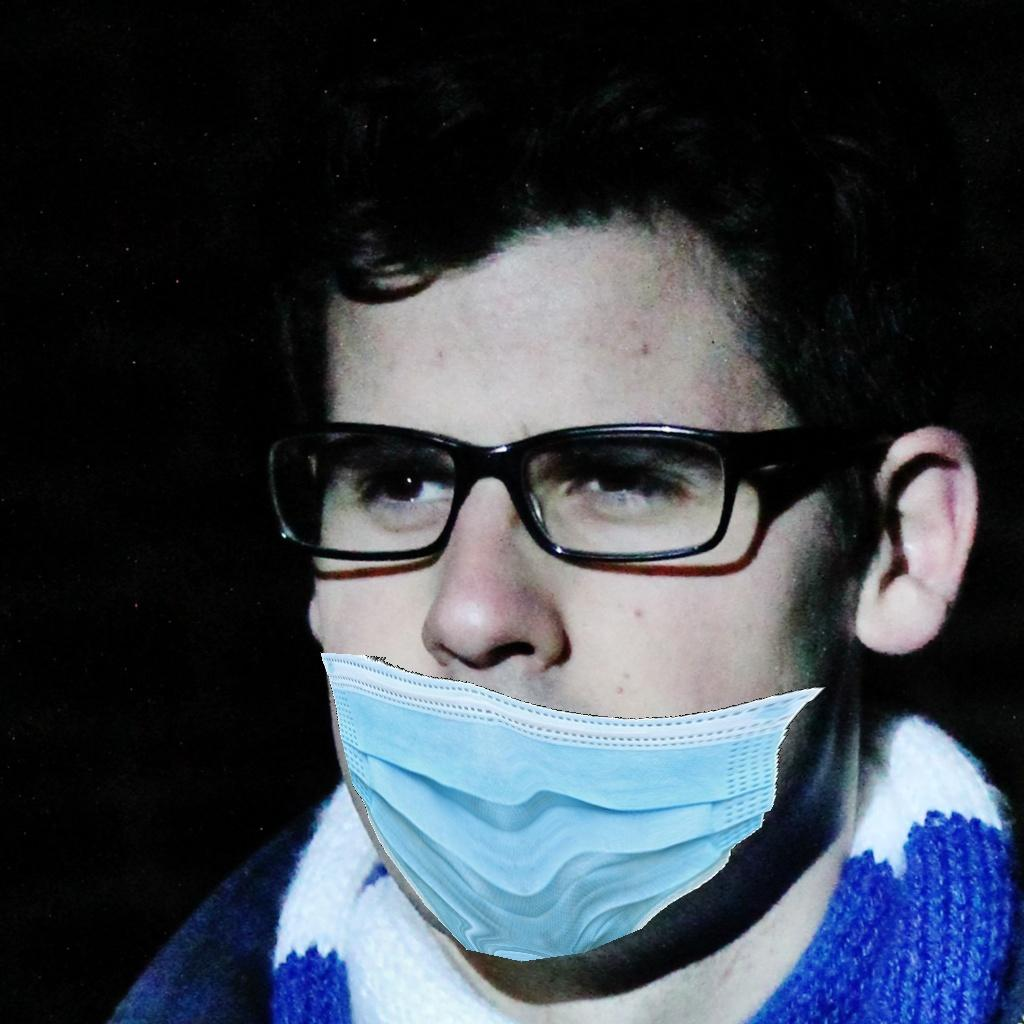Máscara Incorreta: (296, 356, 849, 925)
